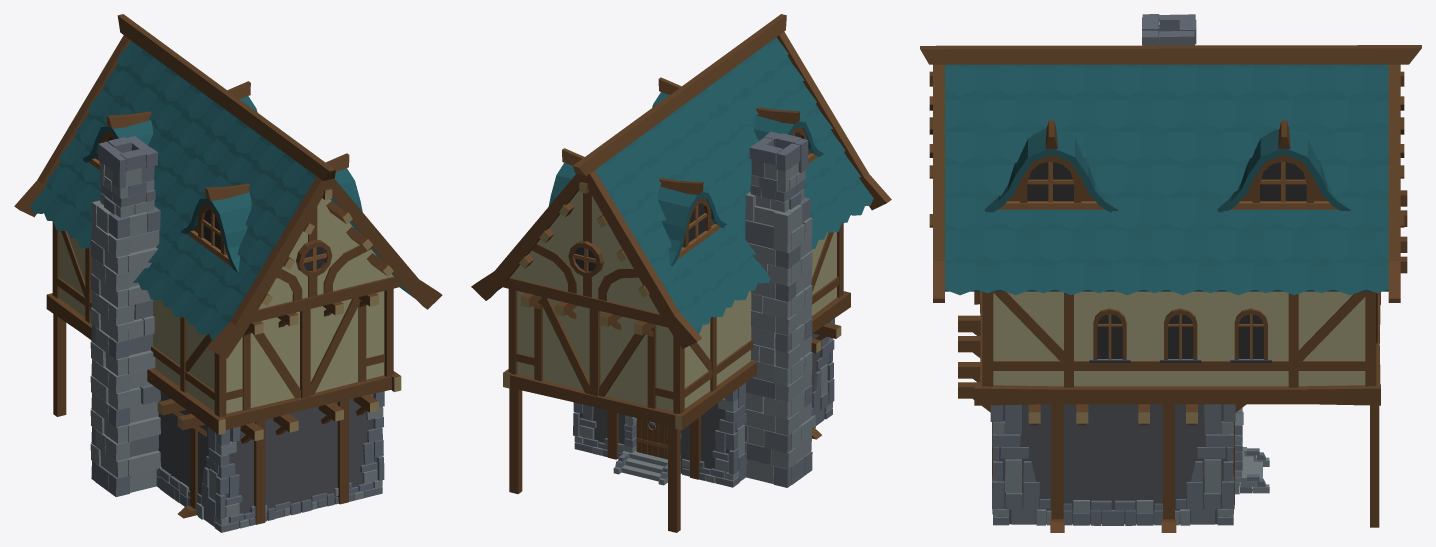
The model's file is House_2_Baked.obj.
3 renders of one model, left to right at view 1: azimuth 30°, elevation 25°; view 2: azimuth 150°, elevation 25°; view 3: azimuth 270°, elevation 25°, orthographic. The views are drawn at different scales.
Parts seen in each view (by area): view 1: House_2_Cylinder.021; view 2: House_2_Cylinder.021; view 3: House_2_Cylinder.021.
Boxes of the visible parts, x1,y1,x2,y2 form: House_2_Cylinder.021: (14, 14, 442, 532); House_2_Cylinder.021: (471, 14, 891, 532); House_2_Cylinder.021: (920, 14, 1421, 532).
Size of the model in its own units: 2.22 by 3.25 by 3.42.
Materials: 1 (1 with a texture image).
